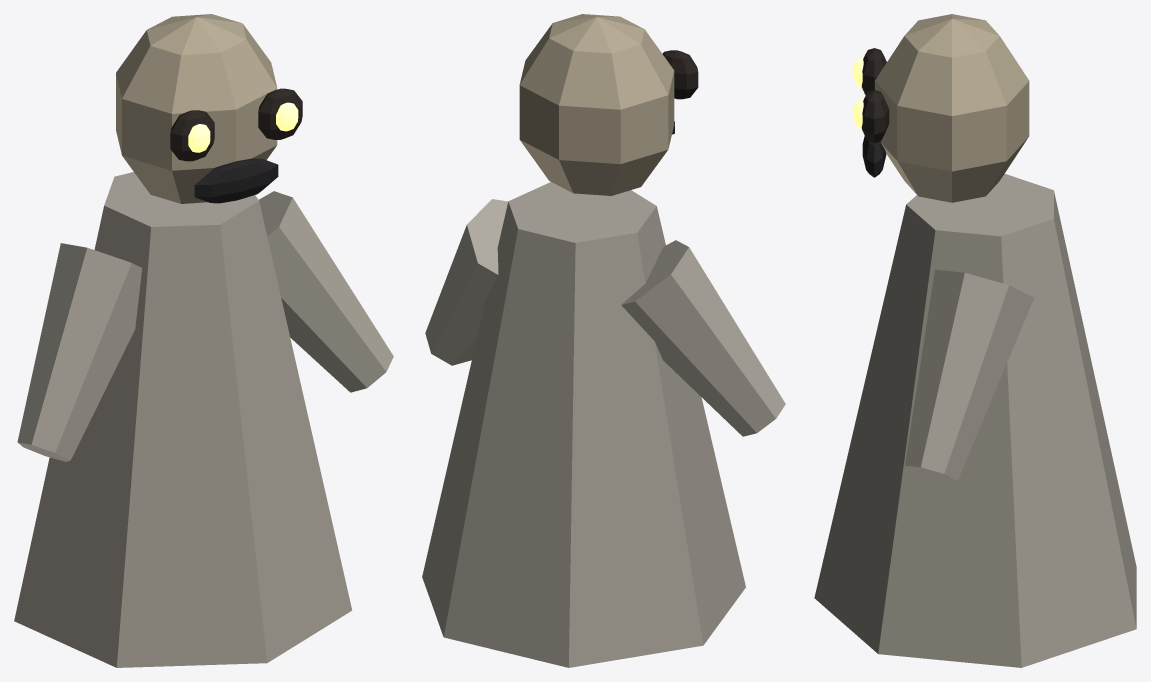
Rendered from fauna-wight.glb.
The picture shows the model from 3 angles, left to right: view 1: azimuth 30°, elevation 25°; view 2: azimuth 150°, elevation 25°; view 3: azimuth 270°, elevation 25°; orthographic projection. The views are drawn at different scales.
Visible parts, largest first — view 1: Fauna_wight; view 2: Fauna_wight; view 3: Fauna_wight.
Part boxes in pixels (bbox=[...]): Fauna_wight: bbox=[14, 14, 393, 667]; Fauna_wight: bbox=[422, 14, 785, 667]; Fauna_wight: bbox=[814, 14, 1136, 667].
Size of the model in its own units: 1.17 by 1.81 by 0.9125.
